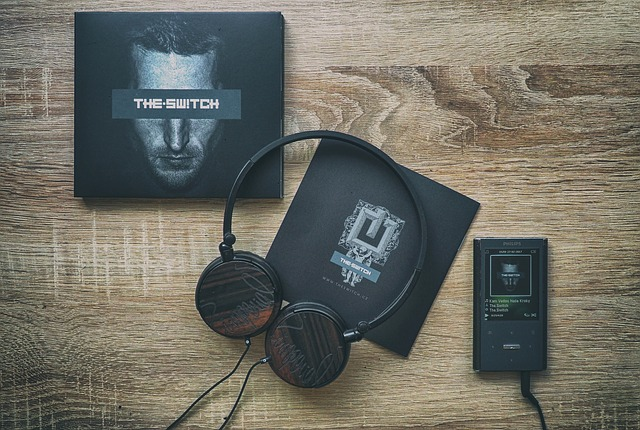headphones: (196, 131, 430, 388)
